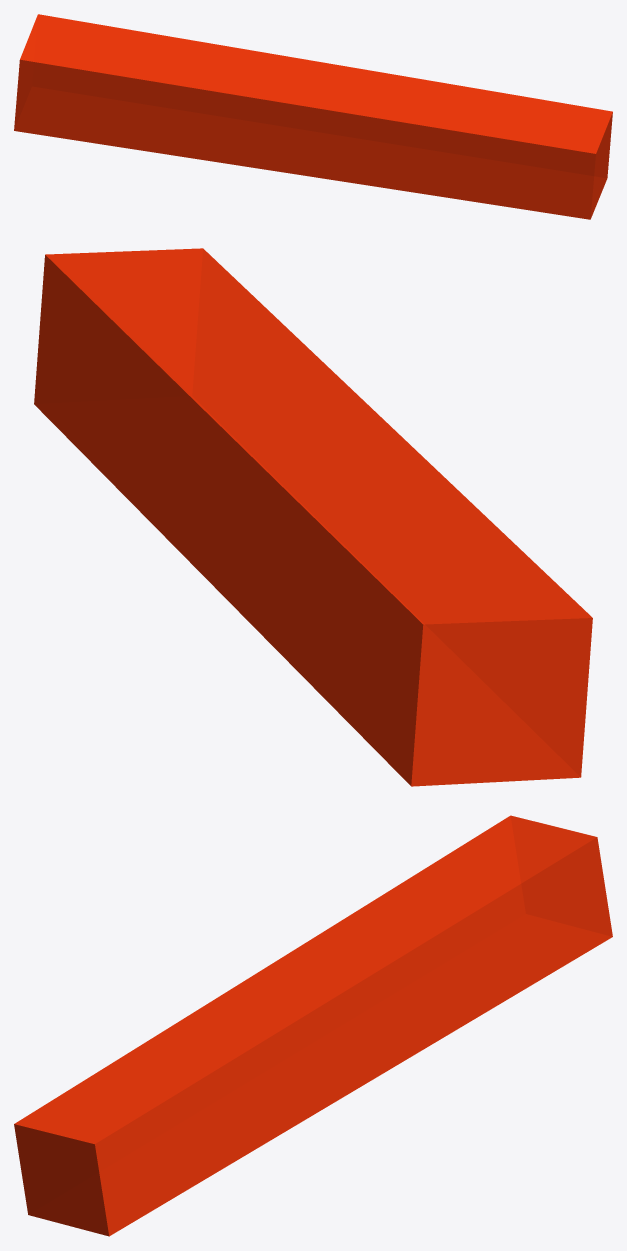
Rendered from Event_421115418_EBrechit_12.fbx.
The picture shows the model from 3 angles, top to bottom: view 1: azimuth 30°, elevation 25°; view 2: azimuth 150°, elevation 25°; view 3: azimuth 270°, elevation 25°; orthographic projection. The views are drawn at different scales.
Parts seen in each view (by area): view 1: Model; view 2: Model; view 3: Model.
Part boxes in pixels (box(x1,y1,x2,y2)): Model: box(14, 14, 612, 219); Model: box(34, 248, 592, 786); Model: box(14, 815, 612, 1236).
Size of the model in its own units: 0.3559 by 0.0998 by 0.3269.
